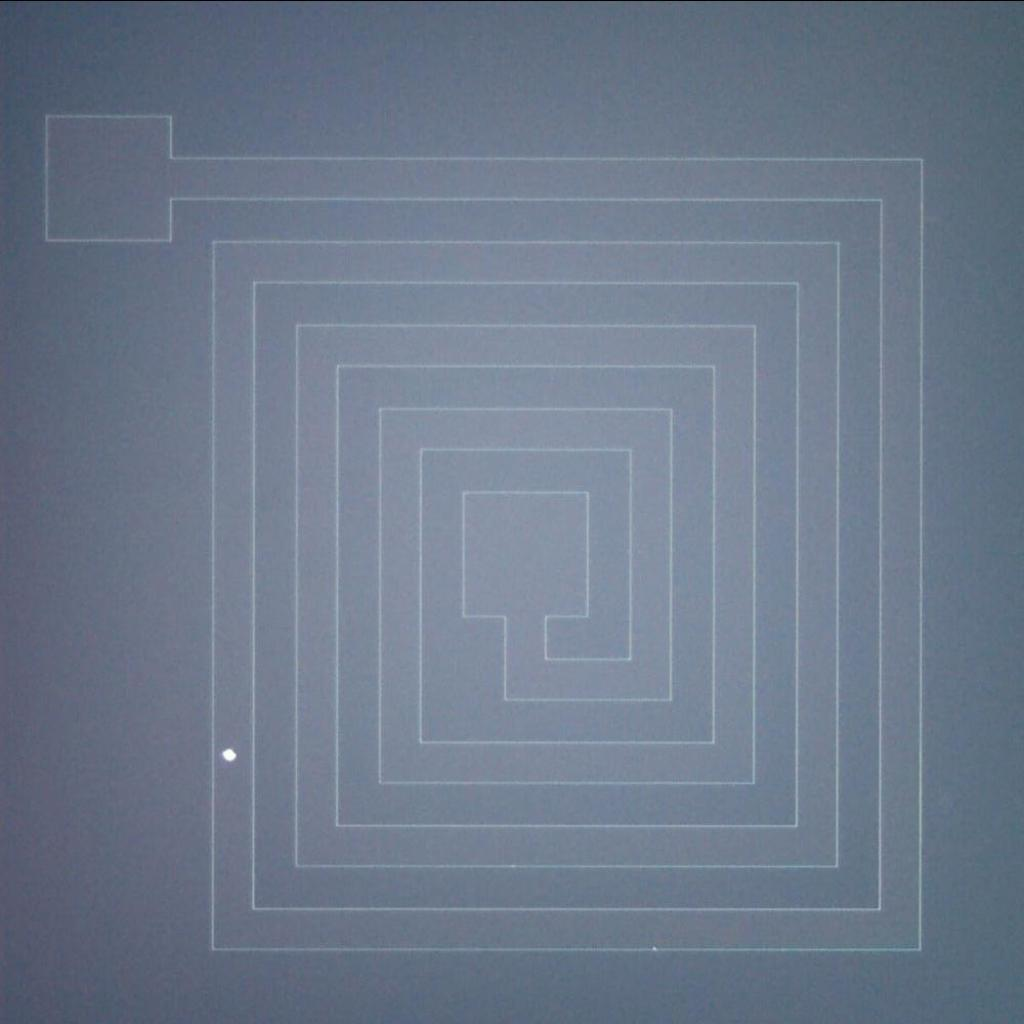spot: (212, 739, 244, 768)
